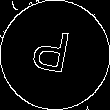P_S: (32, 27, 78, 83)
